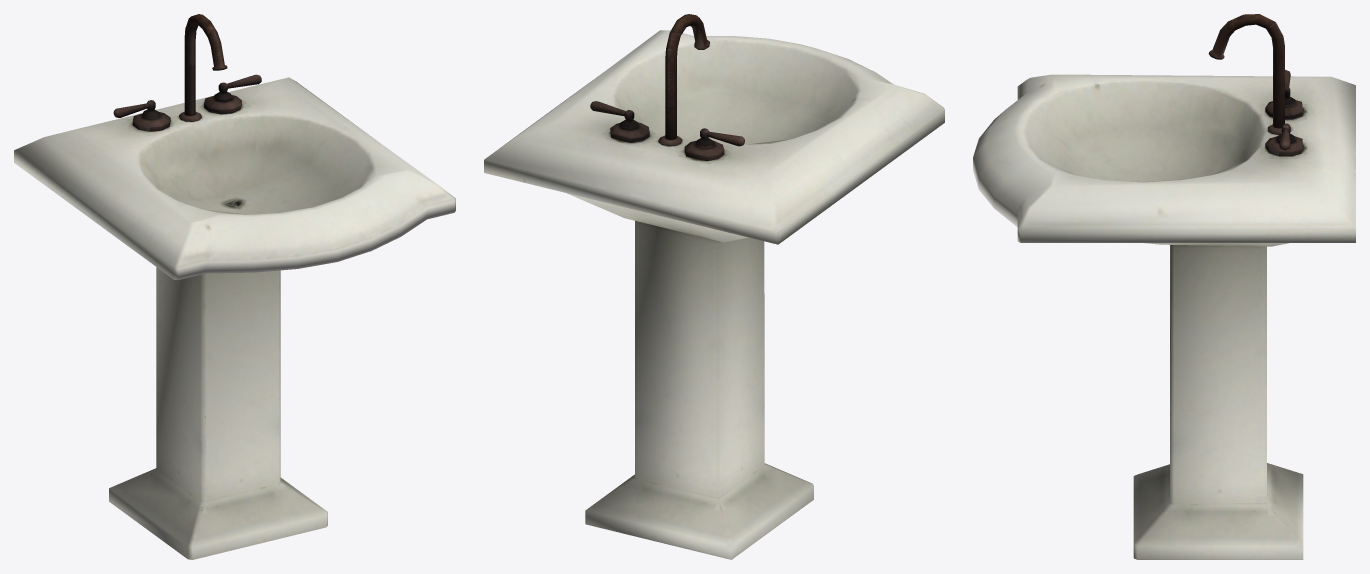
The model's file is bathroom_sink.obj.
3 views of the same model, side by side, from view 1: azimuth 30°, elevation 25°; view 2: azimuth 150°, elevation 25°; view 3: azimuth 270°, elevation 25° (orthographic). The views are drawn at different scales.
Visible parts, largest first — view 1: Model001_4_bathroom sink fancy_1_0_0; view 2: Model001_4_bathroom sink fancy_1_0_0; view 3: Model001_4_bathroom sink fancy_1_0_0.
Boxes of the visible parts, box(x1,y1,x2,y2) form: Model001_4_bathroom sink fancy_1_0_0: box(14, 14, 455, 559); Model001_4_bathroom sink fancy_1_0_0: box(484, 14, 944, 559); Model001_4_bathroom sink fancy_1_0_0: box(973, 14, 1355, 559).
Size of the model in its own units: 0.719 by 1.18 by 0.8059.
